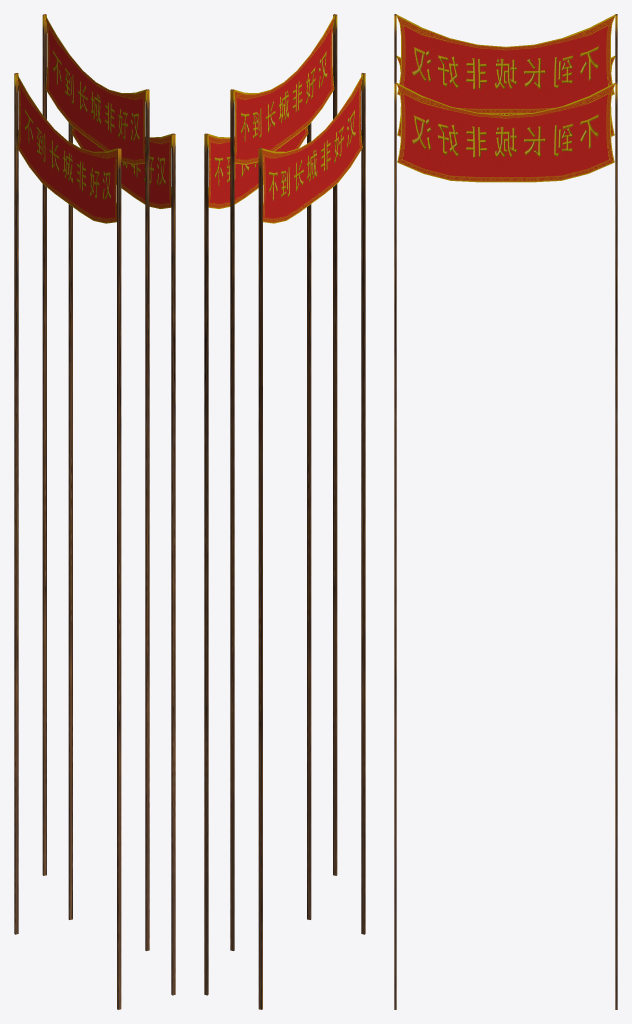
Rendered from manifesto.obj.
3 renders of one model, left to right at view 1: azimuth 30°, elevation 25°; view 2: azimuth 150°, elevation 25°; view 3: azimuth 270°, elevation 25°, orthographic. The views are drawn at different scales.
Visible parts, largest first — view 1: manifesto.002_Scritta.002; view 2: manifesto.002_Scritta.002; view 3: manifesto.002_Scritta.002.
Boxes of the visible parts, x1,y1,x2,y2 form: manifesto.002_Scritta.002: (14, 14, 175, 1009); manifesto.002_Scritta.002: (204, 14, 365, 1009); manifesto.002_Scritta.002: (394, 14, 617, 1009).
Bounding box in the file's own units: 1.95 × 29.59 × 6.1.
